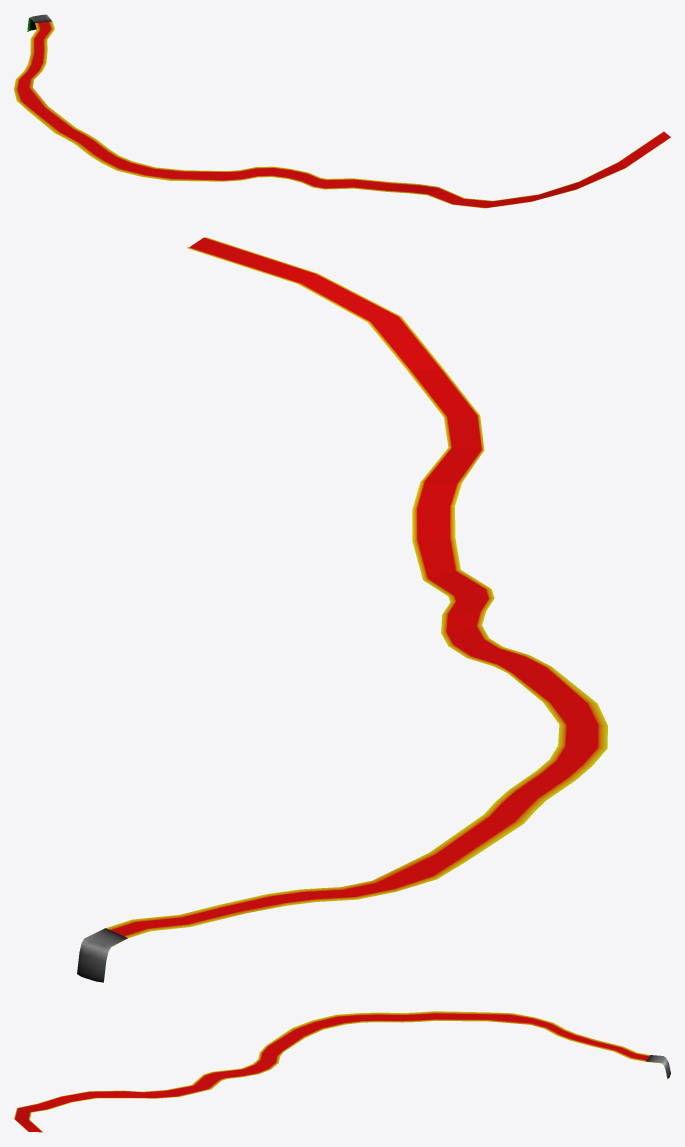
Rendered from Water2.fbx.
3 views of the same model, one above another, from view 1: azimuth 30°, elevation 25°; view 2: azimuth 150°, elevation 25°; view 3: azimuth 270°, elevation 25° (orthographic). The views are drawn at different scales.
Visible parts, largest first — view 1: M_WaterfallRiver_Japan_01; view 2: M_WaterfallRiver_Japan_01, M_WaterfallEdge_Japan_02; view 3: M_WaterfallRiver_Japan_01, M_WaterfallEdge_Japan_02.
Boxes of the visible parts, x1=… form: M_WaterfallRiver_Japan_01: x1=14, y1=18, x2=670, y2=208; M_WaterfallRiver_Japan_01: x1=84, y1=237, x2=607, y2=982; M_WaterfallEdge_Japan_02: x1=77, y1=928, x2=127, y2=982; M_WaterfallRiver_Japan_01: x1=14, y1=1011, x2=667, y2=1132; M_WaterfallEdge_Japan_02: x1=646, y1=1055, x2=670, y2=1078.
Size of the model in its own units: 2038 by 386 by 3185.
